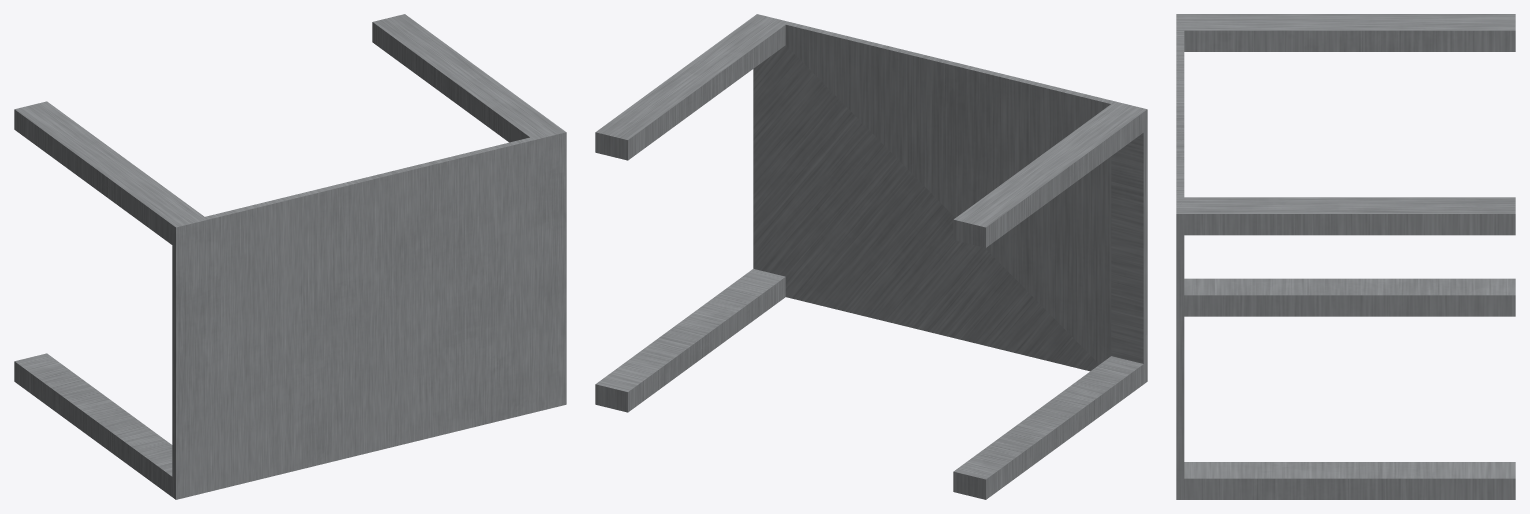
File: assembly_table.gltf
3 renders of one model, left to right at view 1: azimuth 30°, elevation 25°; view 2: azimuth 150°, elevation 25°; view 3: azimuth 270°, elevation 25°, orthographic. The views are drawn at different scales.
Parts seen in each view (by area): view 1: assembly_table; view 2: assembly_table; view 3: assembly_table.
Part boxes in pixels (x1,y1,x2,y2): assembly_table: (14,14,566,499); assembly_table: (595,14,1147,499); assembly_table: (1176,14,1515,499).
Bounding box in the file's own units: 0.6 × 0.4 × 0.43.
Materials: 2 (2 with a texture image).
